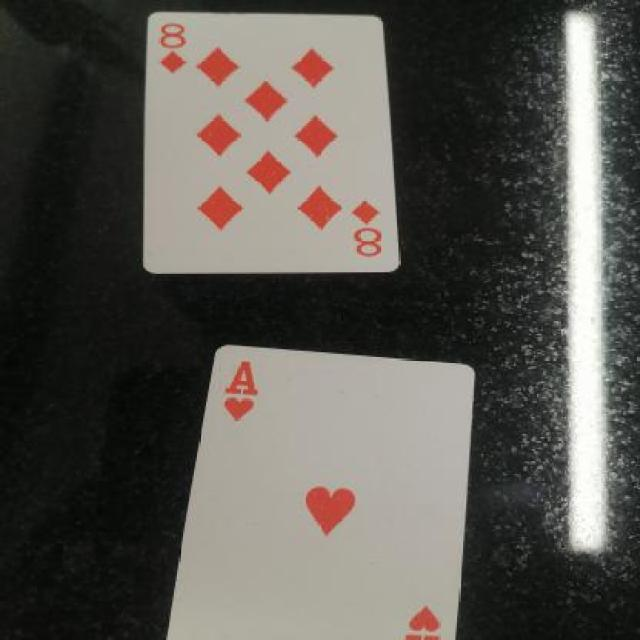8D: (143, 11, 200, 77)
AH: (206, 360, 292, 431)
